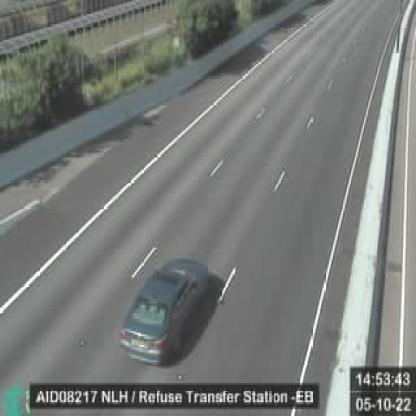Car: (118, 258, 211, 364)
